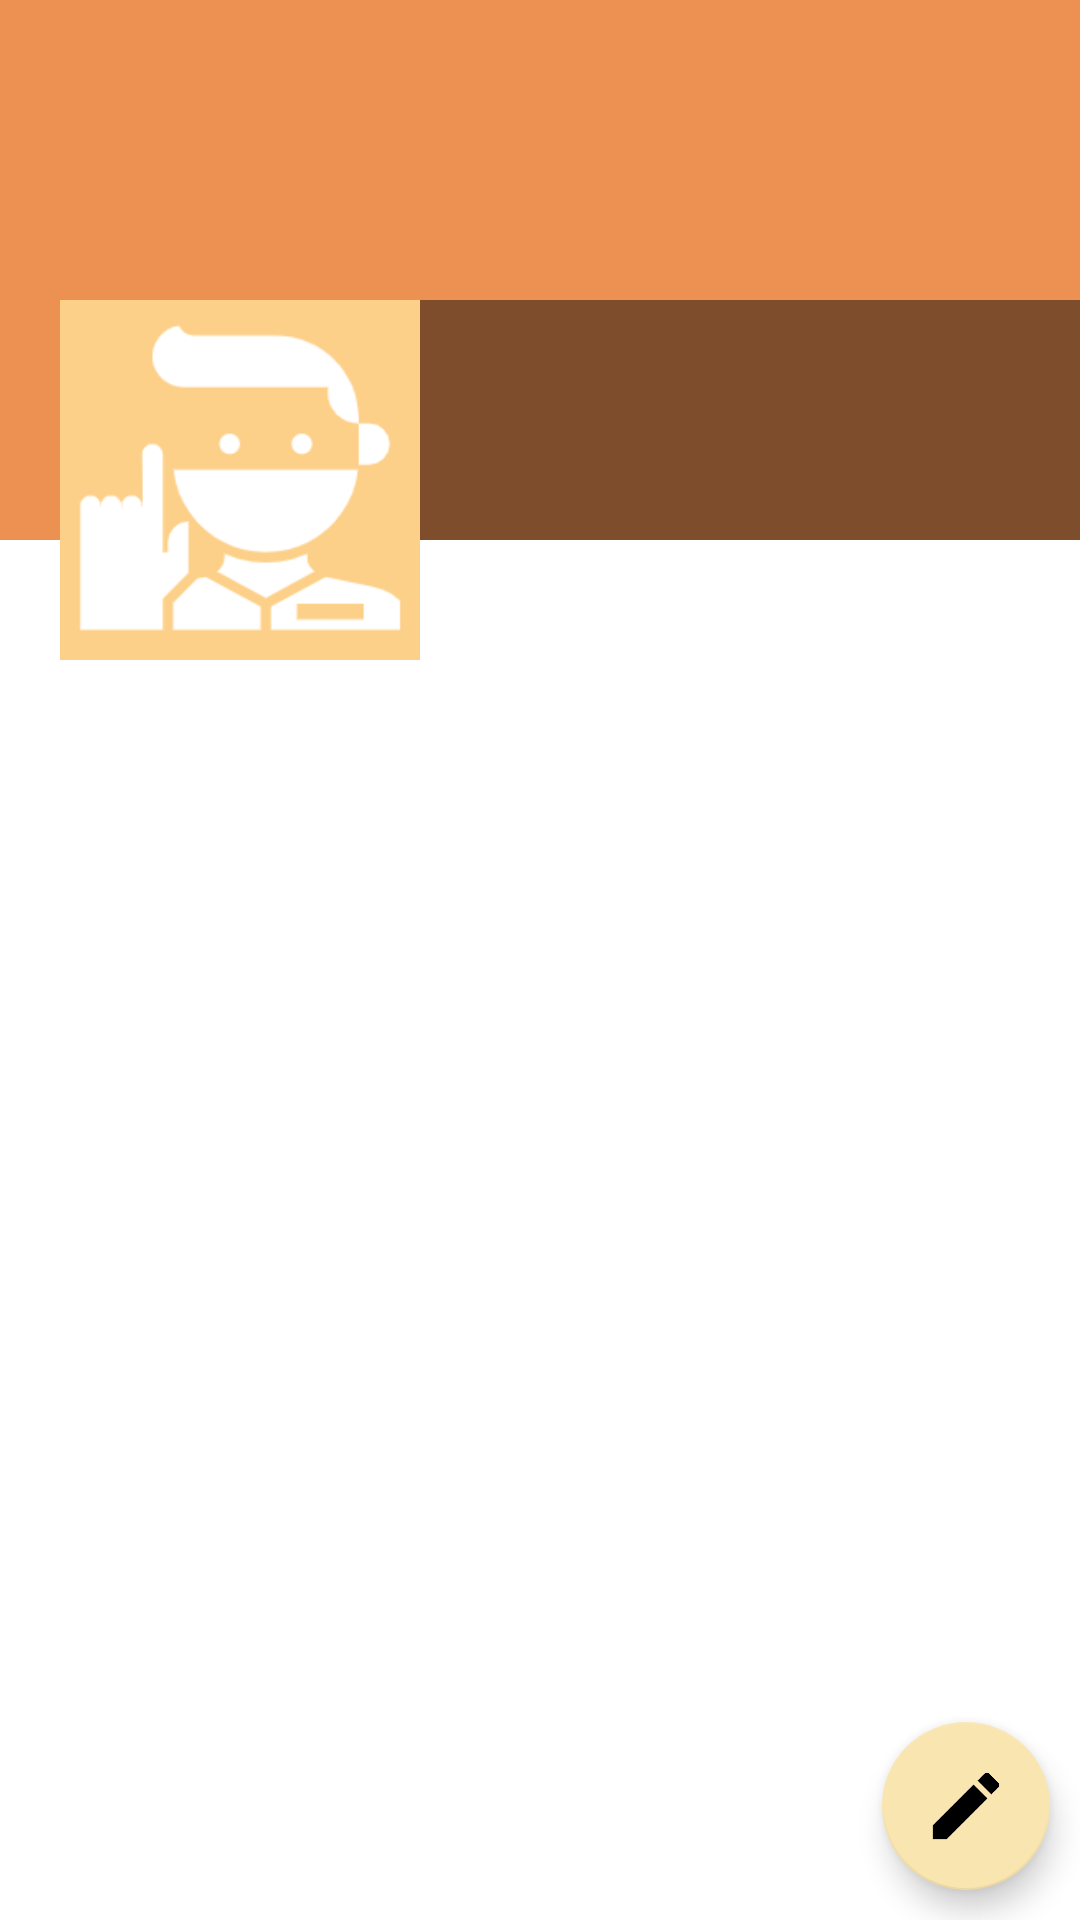

Named icons in this screenshot (1080*1920) and their bounding boxes, bbox=(x1, y1, x2, y2):
edit: bbox=(882, 1722, 1050, 1890)
